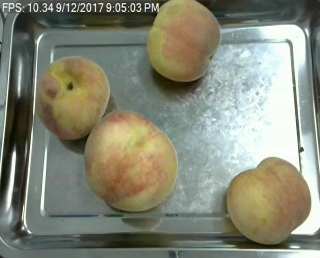Peach: (83, 109, 177, 213), (225, 155, 312, 245), (36, 55, 111, 140), (145, 0, 222, 81)
